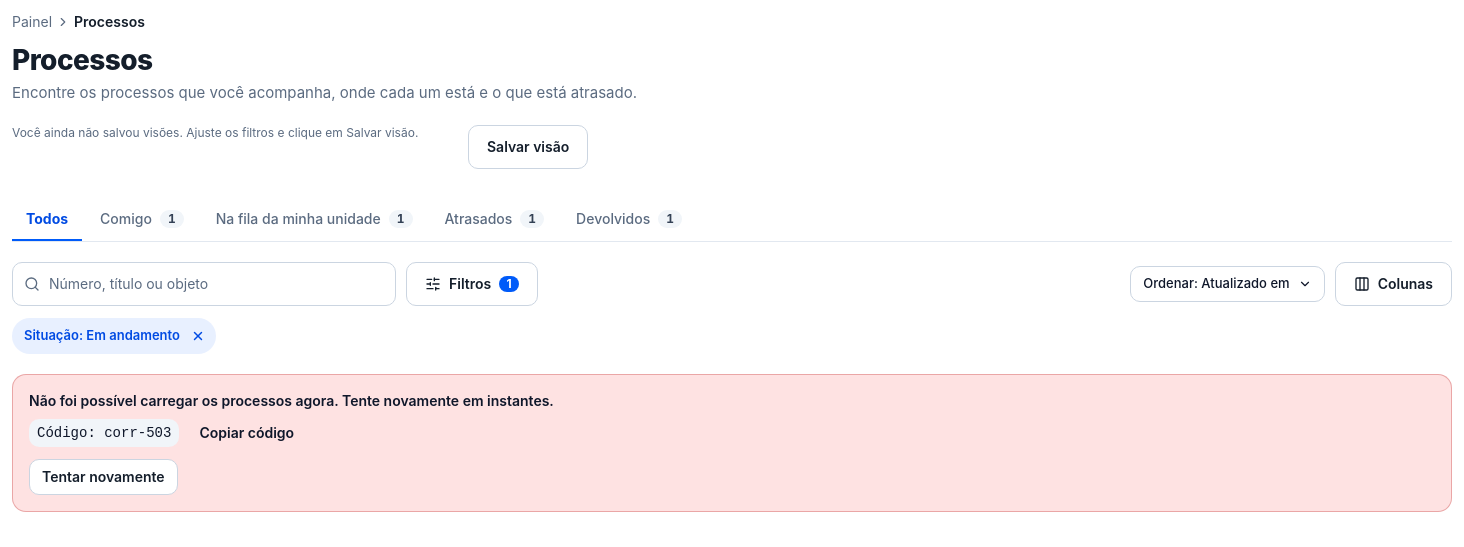
Feature: SCR-004 — Processos (US-002) › [Falha de banco] 503: mantém filtros, mensagem com correlationId e "Tentar novamente"
Expected: the text "Não foi possível carregar os processos agora. Tente novamente em instantes." is shown, [29, 392, 554, 409]
Expected: the text "Código: corr-503" is shown, [29, 419, 179, 447]
Click the button "Tentar novamente" at (103, 477), box [29, 459, 178, 495]
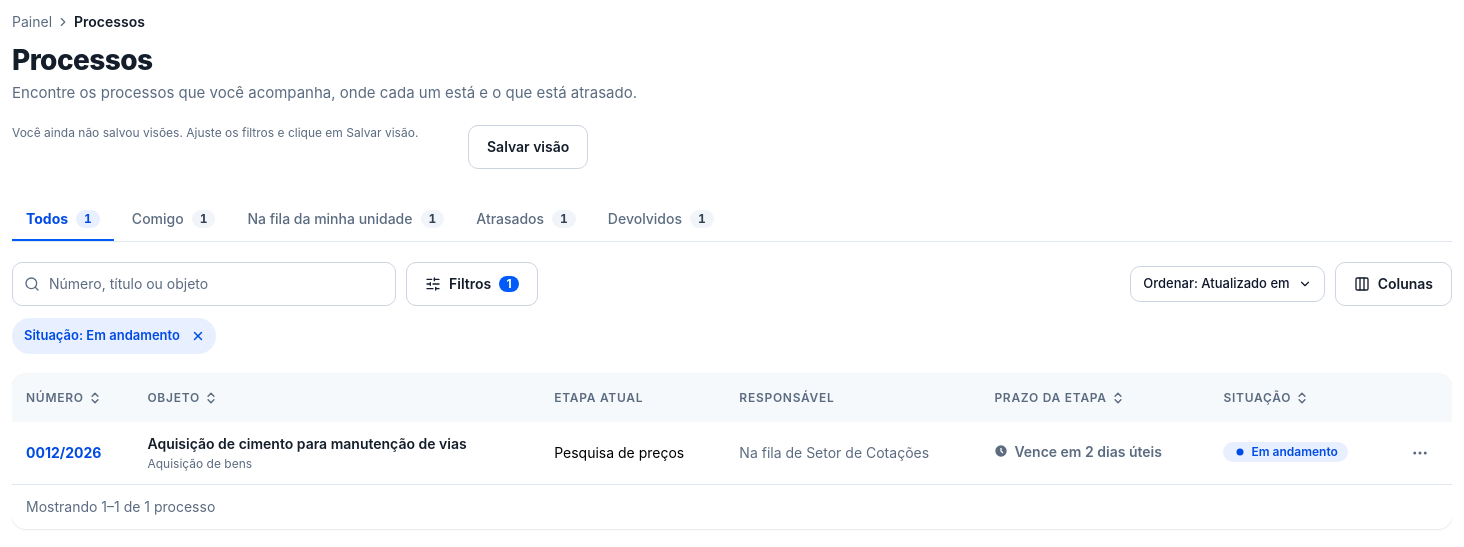
Expected: the link "0012/2026" is shown, [26, 444, 101, 461]
